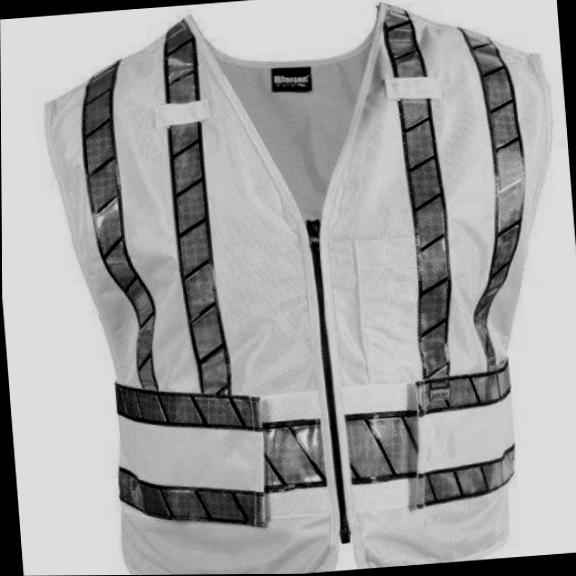safety_vest: (30, 0, 576, 576)
